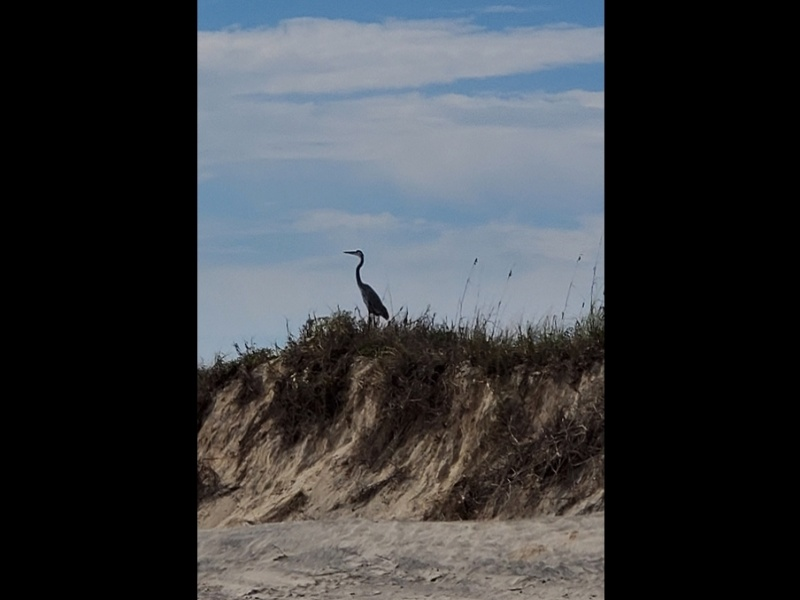heron: (341, 246, 391, 325)
